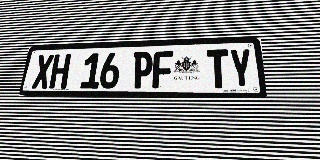1: (80, 53, 102, 89)
6: (99, 52, 121, 89)
F: (152, 51, 173, 88)
H: (49, 54, 71, 89)
P: (132, 51, 153, 88)
T: (207, 49, 230, 88)
X: (31, 55, 54, 89)
Y: (229, 48, 254, 88)
